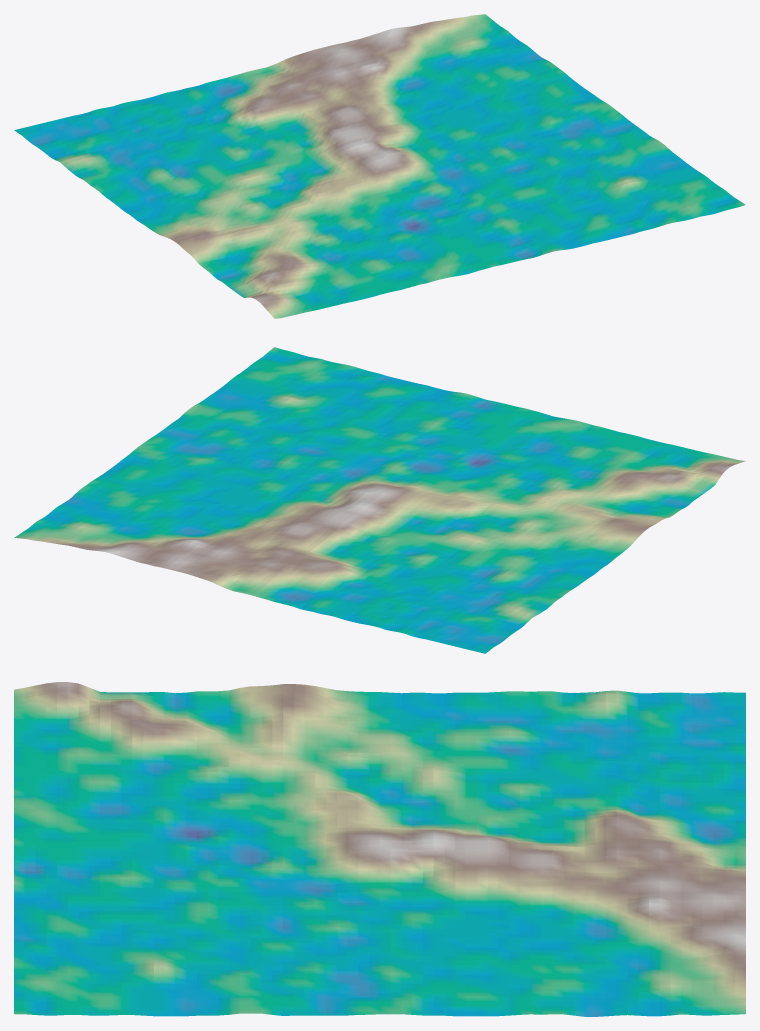
File: 000004_terrain_only.glb
3 renders of one model, top to bottom at view 1: azimuth 30°, elevation 25°; view 2: azimuth 150°, elevation 25°; view 3: azimuth 270°, elevation 25°, orthographic. The views are drawn at different scales.
Parts seen in each view (by area): view 1: terrain; view 2: terrain; view 3: terrain.
Part boxes in pixels (x1,y1,x2,y2): terrain: (14,14,745,318); terrain: (14,347,745,653); terrain: (14,682,745,1016).
Bounding box in the file's own units: 0.0191 × 0.000438 × 0.0183.
